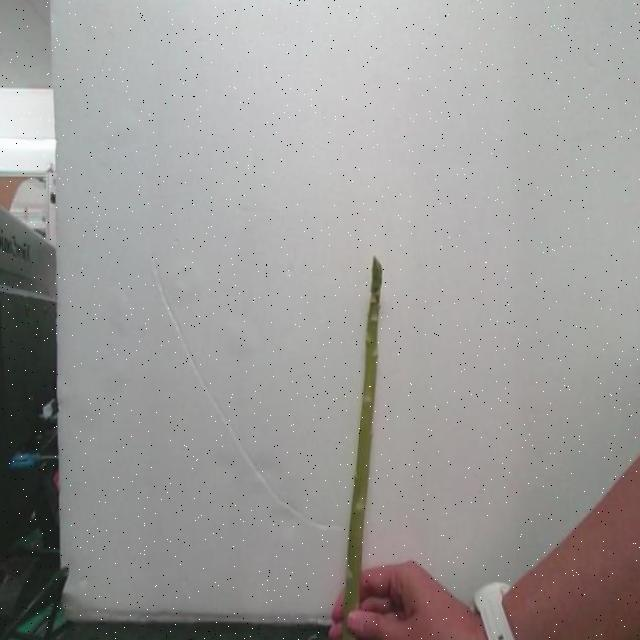aspargus: (338, 257, 382, 640)
